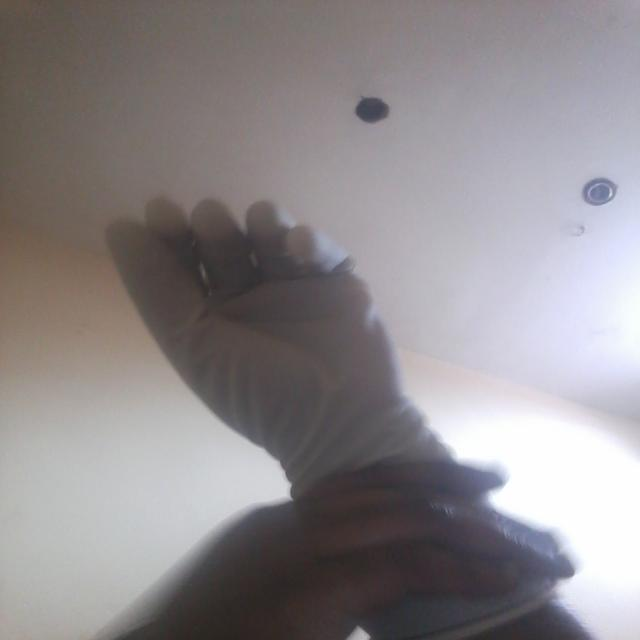glove_hand: (98, 185, 582, 628)
